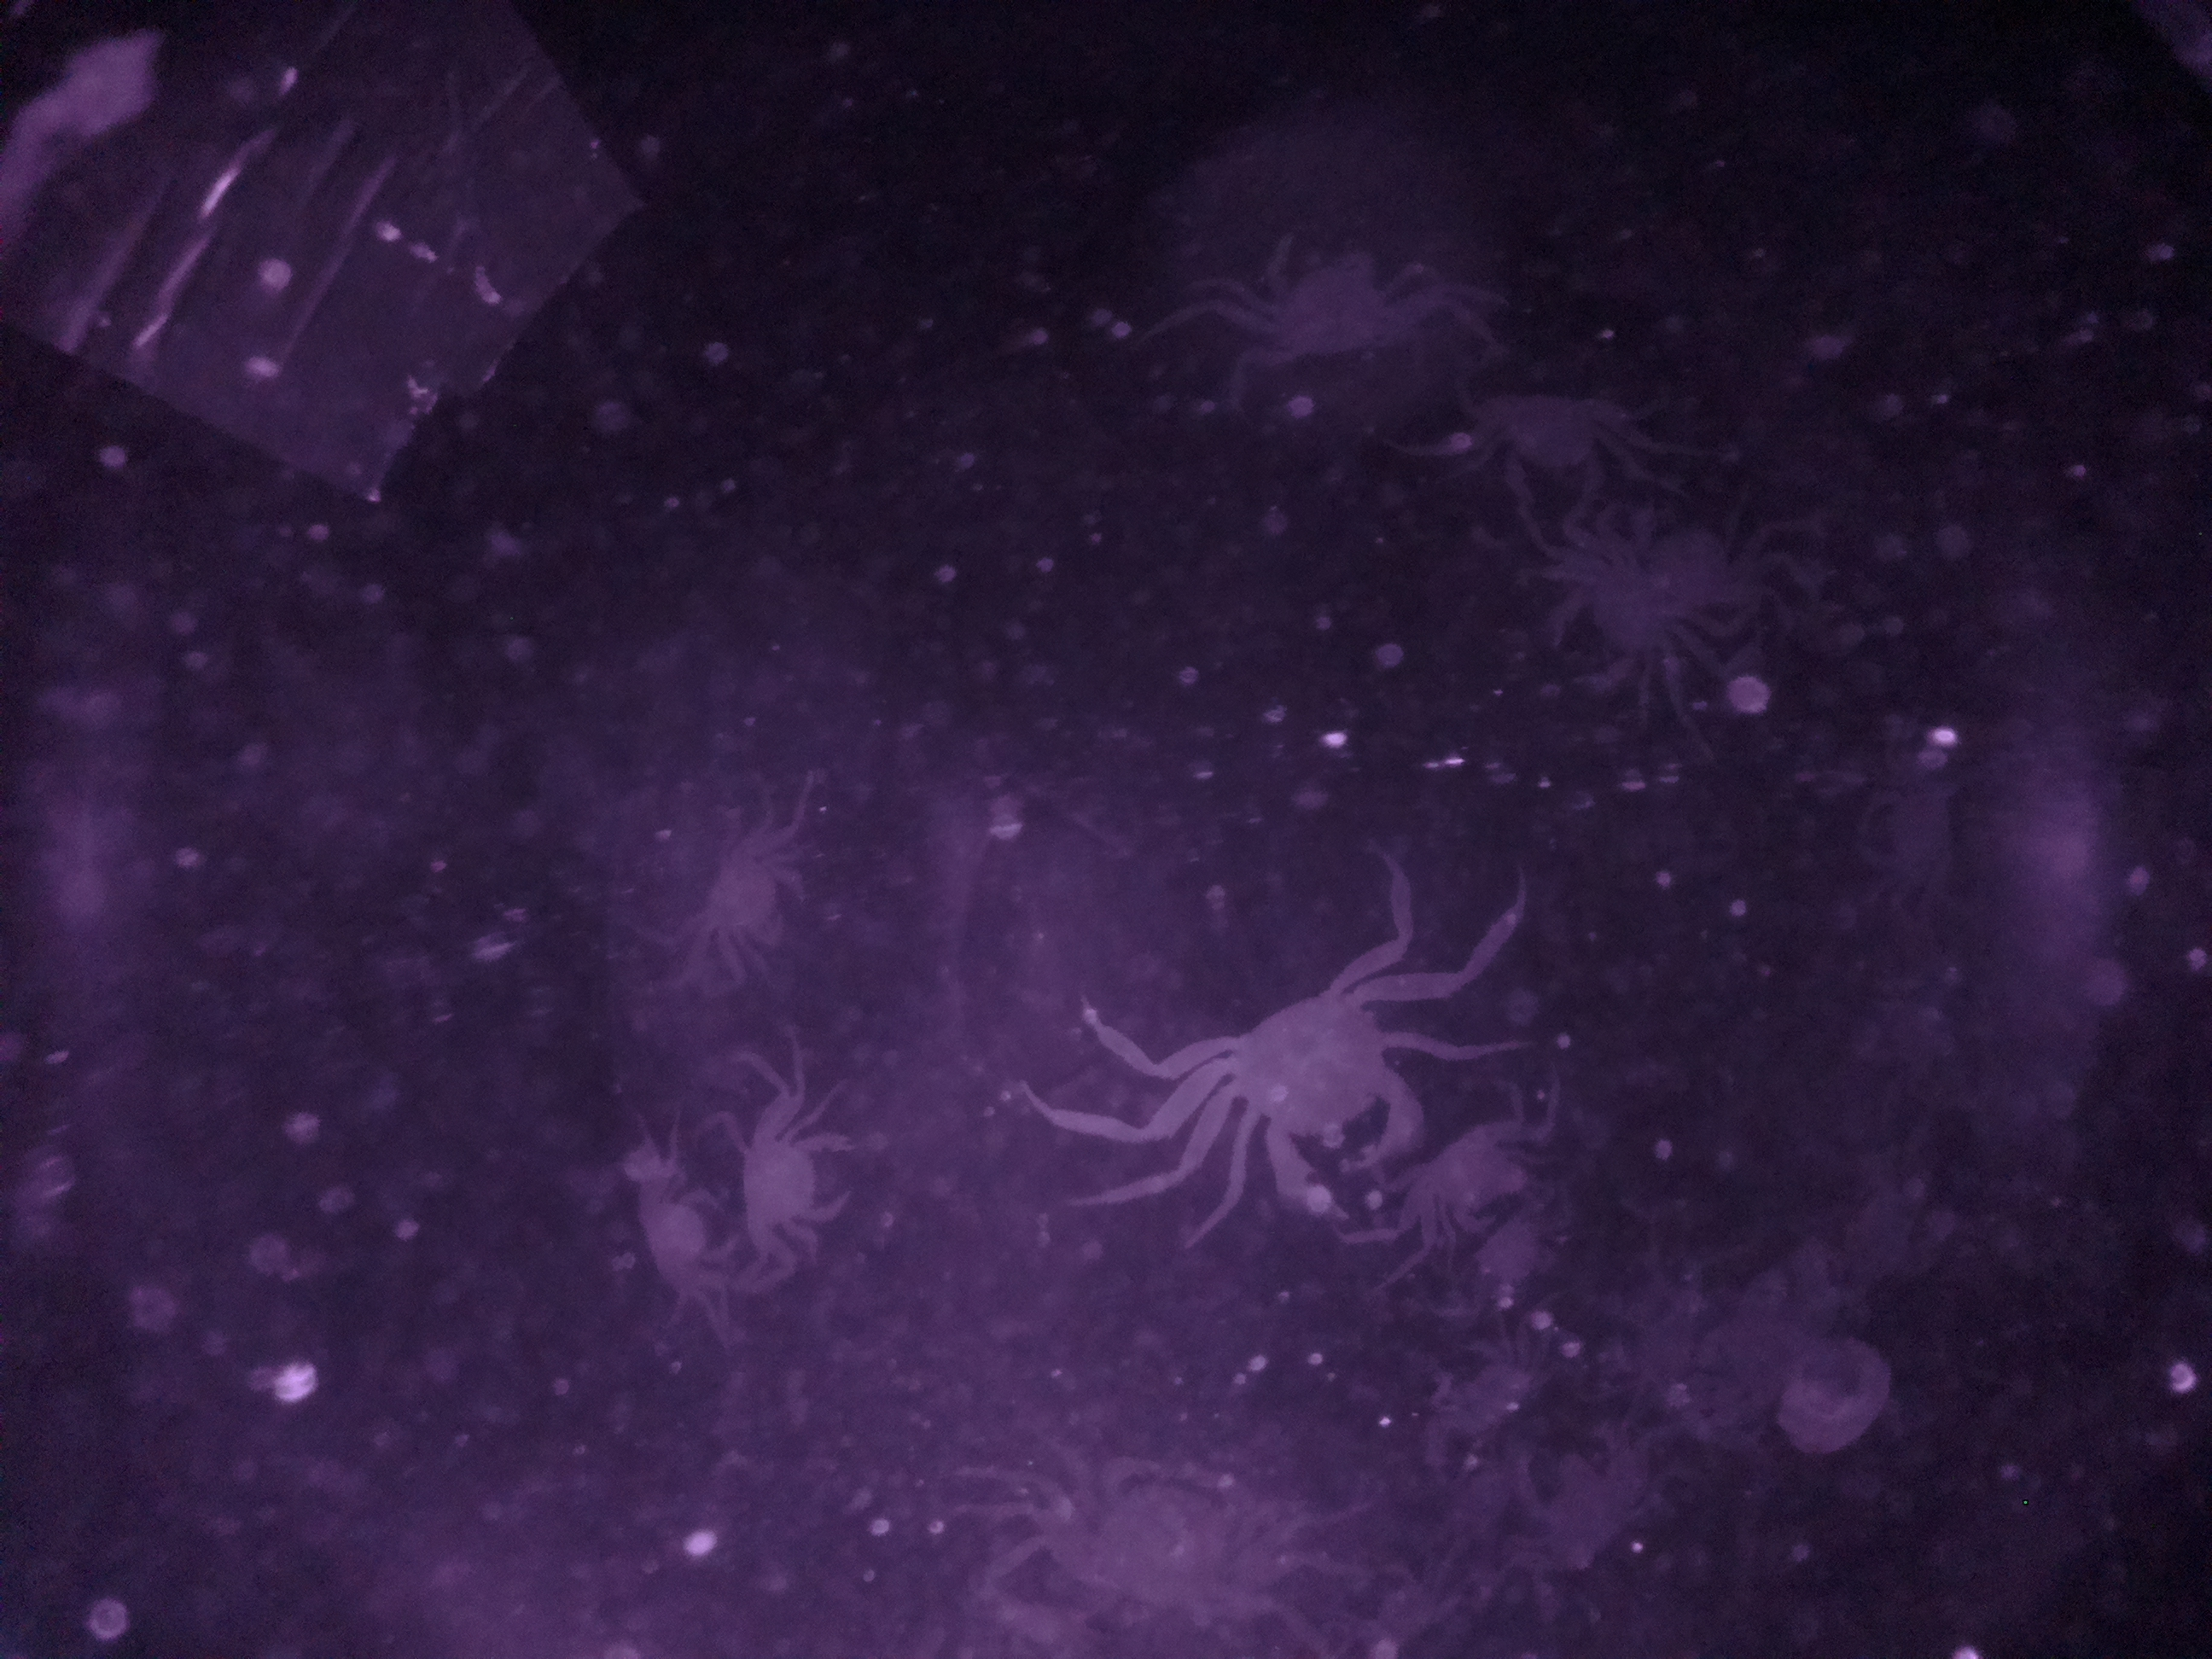Crab: (1193, 936, 1446, 1232), (1204, 214, 1453, 385), (1533, 505, 1689, 713), (719, 1086, 869, 1277), (683, 814, 815, 995)
